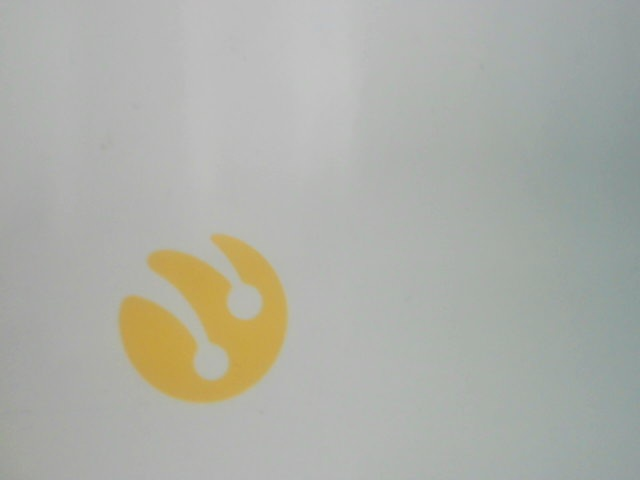AV_H3600Yellow: (96, 229, 290, 408)
